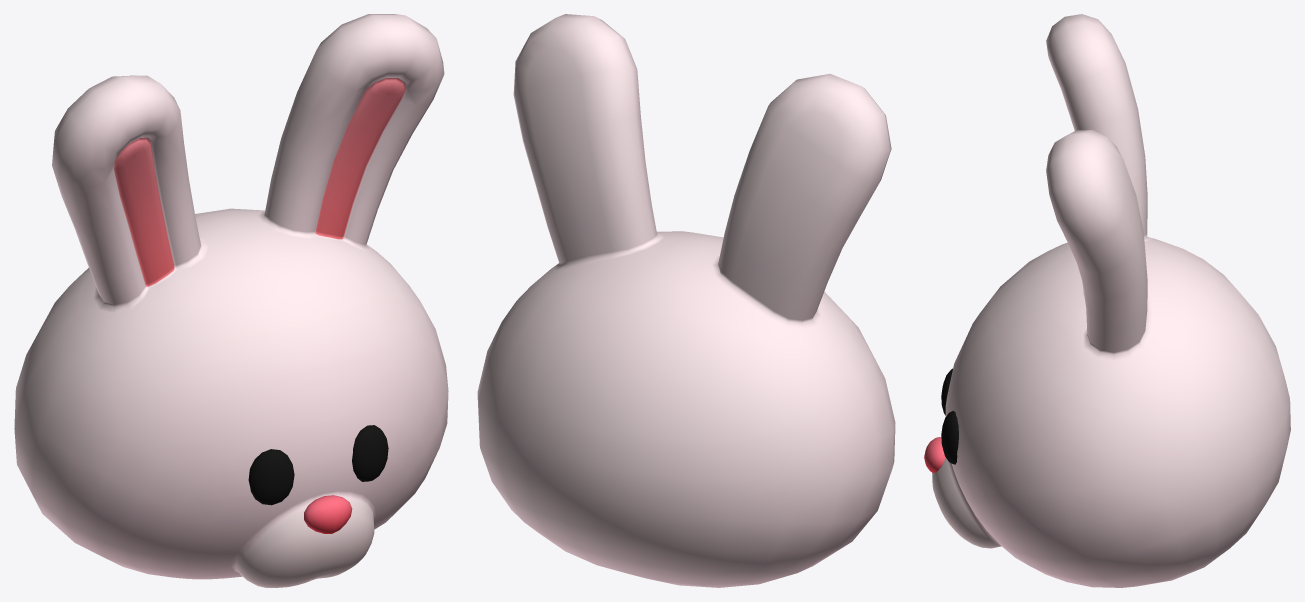
The picture shows the model from 3 angles, left to right: view 1: azimuth 30°, elevation 25°; view 2: azimuth 150°, elevation 25°; view 3: azimuth 270°, elevation 25°; orthographic projection. The views are drawn at different scales.
Parts seen in each view (by area): view 1: RabbitHead; view 2: RabbitHead; view 3: RabbitHead.
Part boxes in pixels (x1=…): RabbitHead: x1=14, y1=14, x2=448, y2=587; RabbitHead: x1=477, y1=14, x2=895, y2=587; RabbitHead: x1=924, y1=14, x2=1290, y2=587.
Bounding box in the file's own units: 0.7856 × 0.9894 × 0.6875.
1 material, 1 textured.
